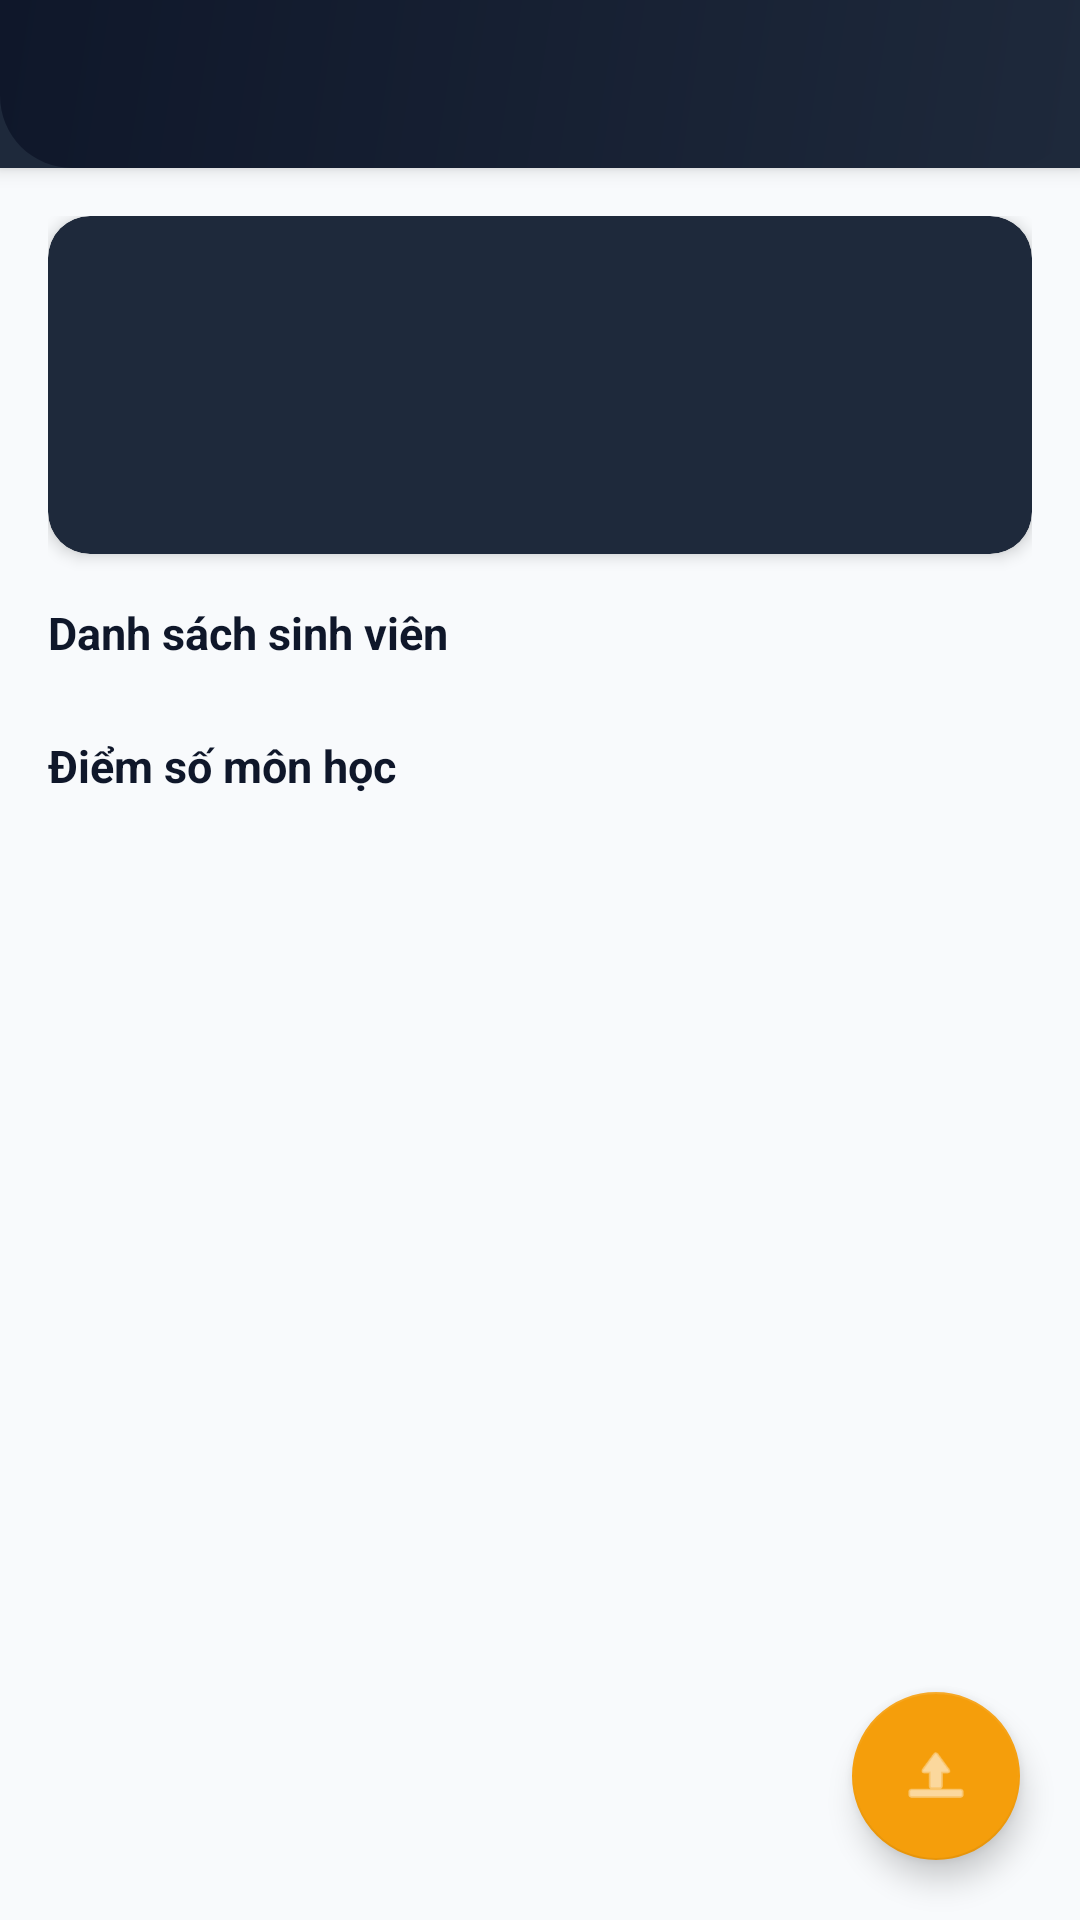

Locate icon controls on the screen. Image size 1080×1920, boxes as (left=x1, top=y1, right=x2, bottom=y2).
Import sinh viên: (left=852, top=1692, right=1020, bottom=1860)
